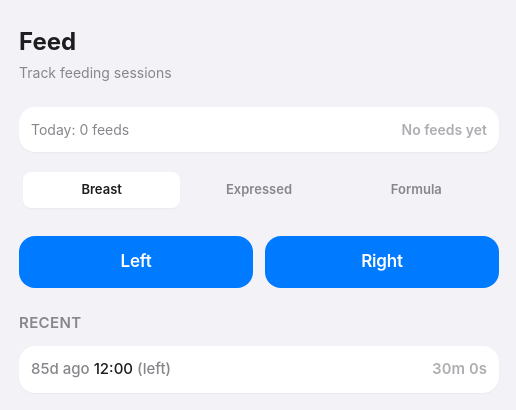
Test case: Feed › shows error toast when breast feed start fails
Click the button "Left": (136, 262) 19,236 -> 253,288
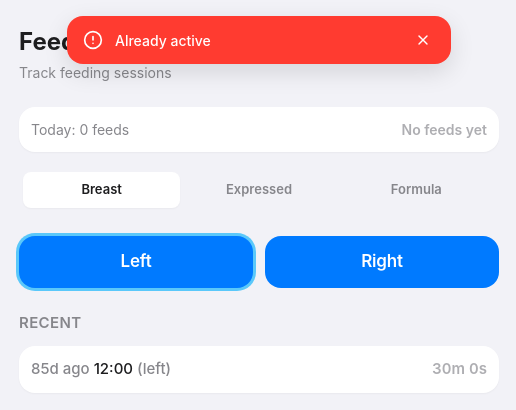
Expected: the text "Already active" is shown, 115,32 -> 211,48
